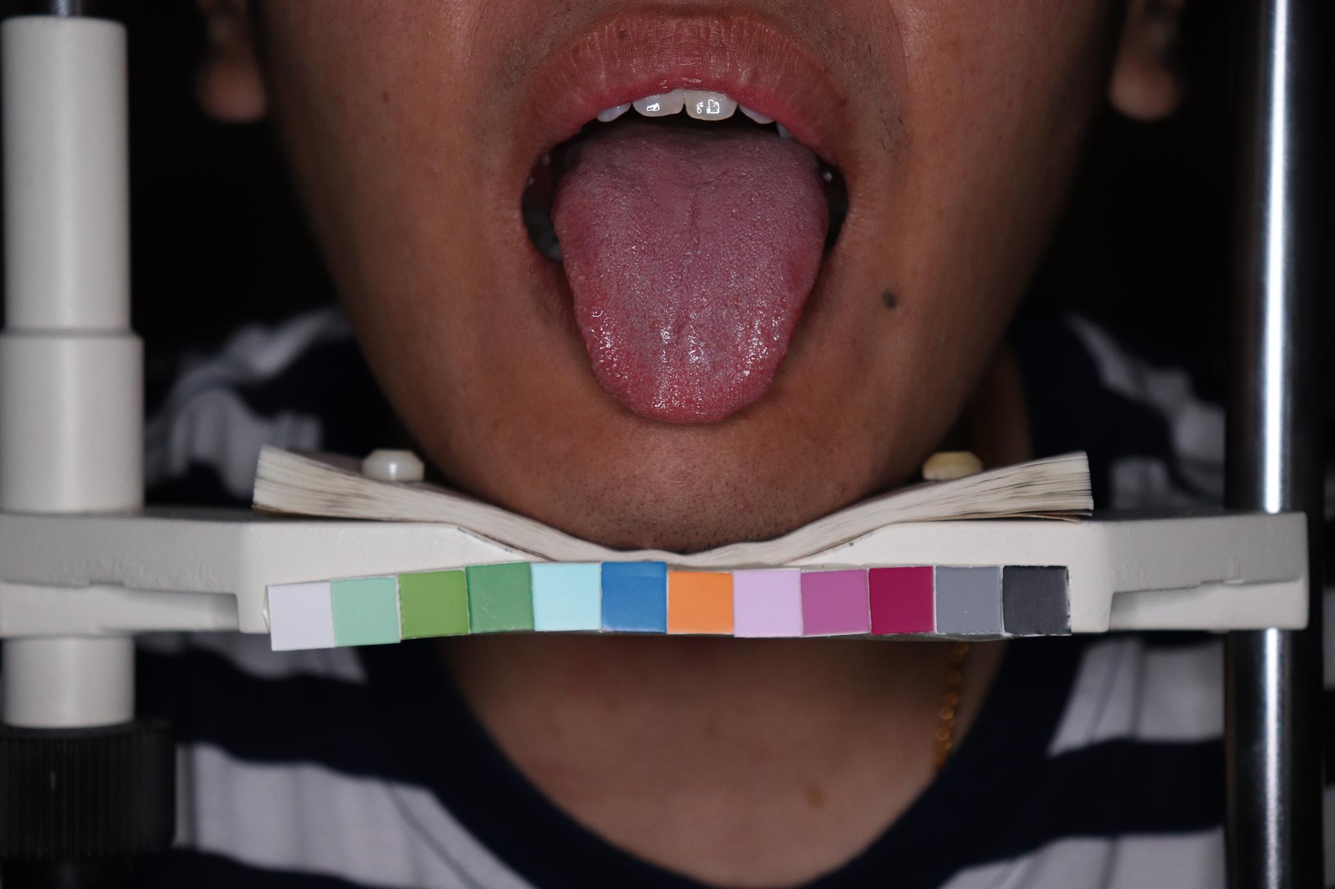baitaishe: (551, 127, 826, 425)
huataishe: (585, 305, 629, 379)
zishe: (551, 127, 826, 425)
